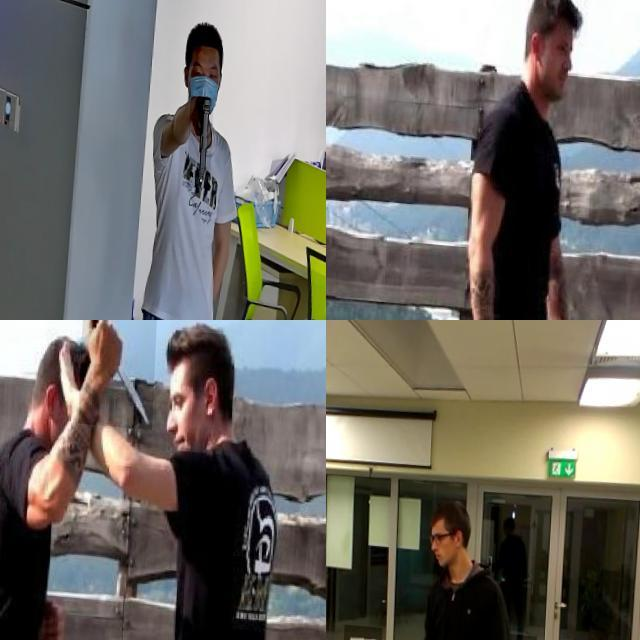-: (80, 320, 158, 424)
gun-knife-thesis - v11 Yolov5 augmented: (190, 89, 217, 183), (346, 620, 386, 640)
